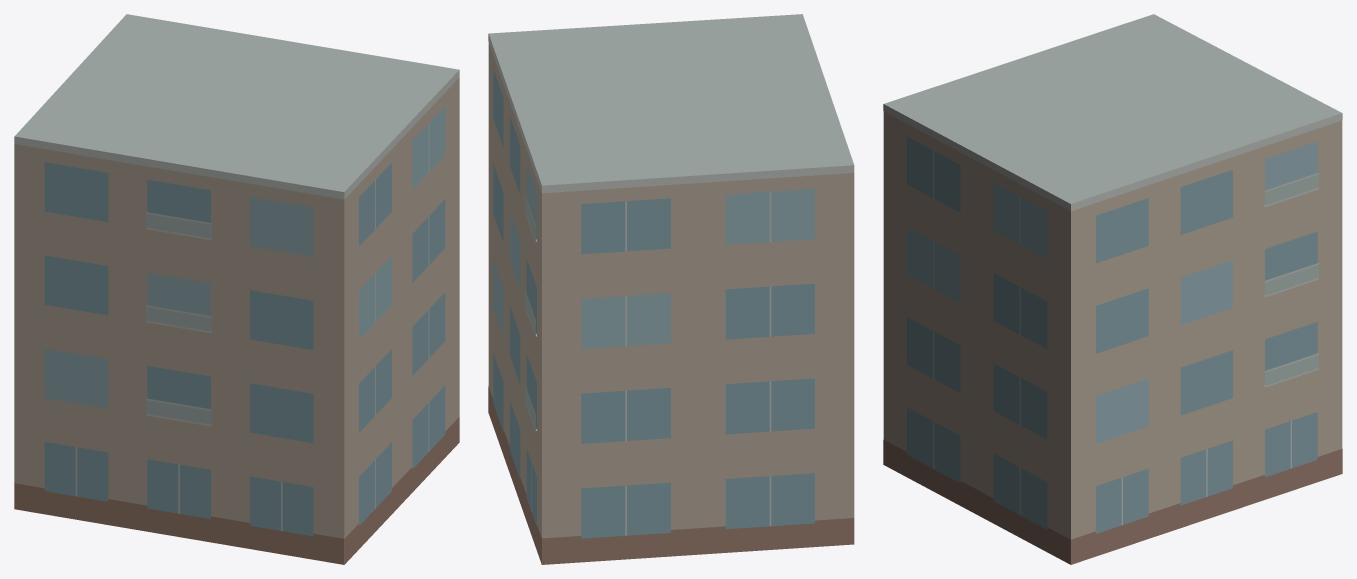
The model's file is survey-upis-32746230.glb.
3 renders of one model, left to right at view 1: azimuth 30°, elevation 25°; view 2: azimuth 150°, elevation 25°; view 3: azimuth 270°, elevation 25°, orthographic. The views are drawn at different scales.
Parts seen in each view (by area): view 1: survey-upis-32746230.tmp; view 2: survey-upis-32746230.tmp; view 3: survey-upis-32746230.tmp.
Boxes of the visible parts, left/top/right/bottom form: survey-upis-32746230.tmp: left=14, top=14, right=459, bottom=564; survey-upis-32746230.tmp: left=488, top=14, right=854, bottom=564; survey-upis-32746230.tmp: left=883, top=14, right=1342, bottom=564.
Size of the model in its own units: 13.74 by 12.15 by 14.01.
